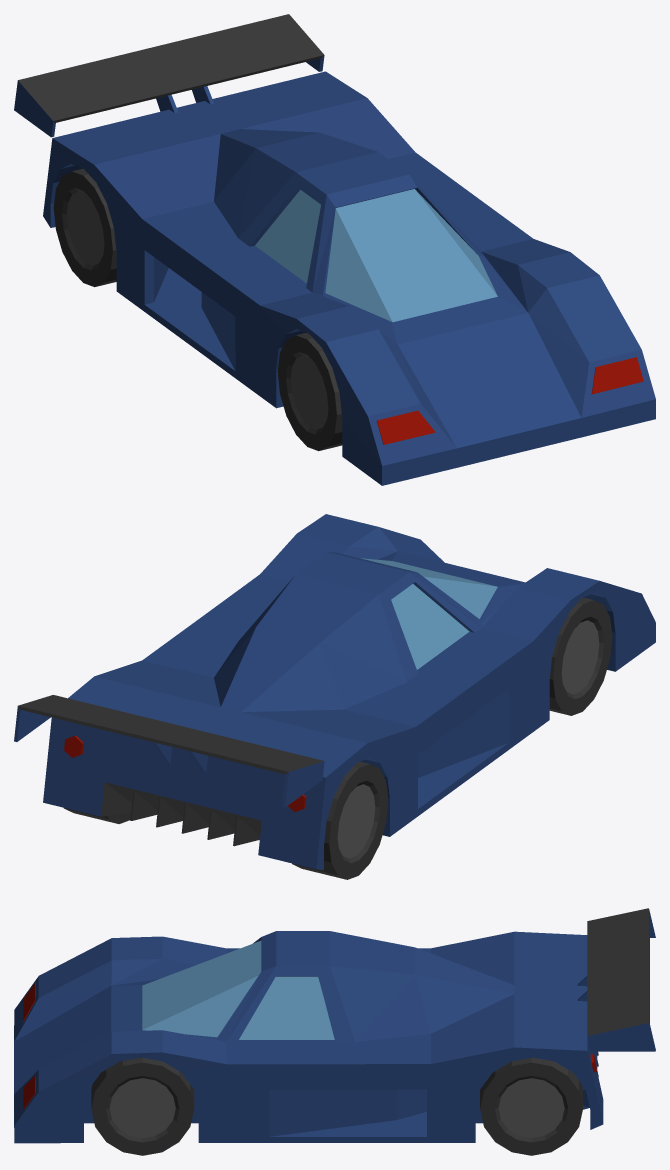
Rendered from car1.dae.
3 renders of one model, top to bottom at view 1: azimuth 30°, elevation 25°; view 2: azimuth 150°, elevation 25°; view 3: azimuth 270°, elevation 25°, orthographic. The views are drawn at different scales.
Visible parts, largest first — view 1: body, wheel3, wheel4; view 2: body, wheel4, wheel3; view 3: body, wheel2, wheel1.
Boxes of the visible parts, bbox=[...] form: body: bbox=[14, 14, 655, 485]; wheel3: bbox=[277, 333, 342, 451]; wheel4: bbox=[53, 168, 116, 287]; body: bbox=[14, 514, 655, 870]; wheel4: bbox=[292, 761, 388, 879]; wheel3: bbox=[549, 597, 612, 715]; body: bbox=[14, 908, 655, 1143]; wheel2: bbox=[91, 1057, 194, 1155]; wheel1: bbox=[480, 1057, 582, 1155].
Bounding box in the file's own units: 0.9629 × 2.25 × 0.5777.
